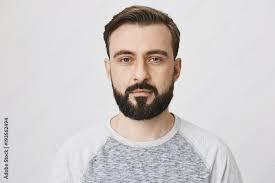normal: (98, 2, 186, 123)
